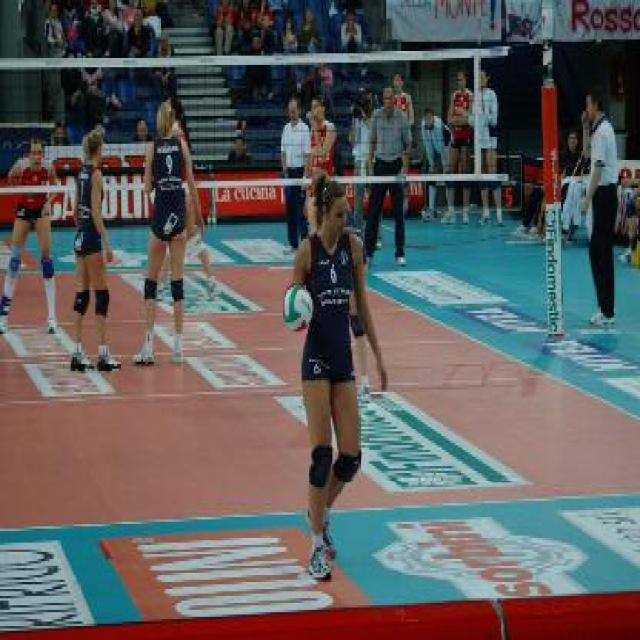volleyball: (282, 286, 314, 332)
